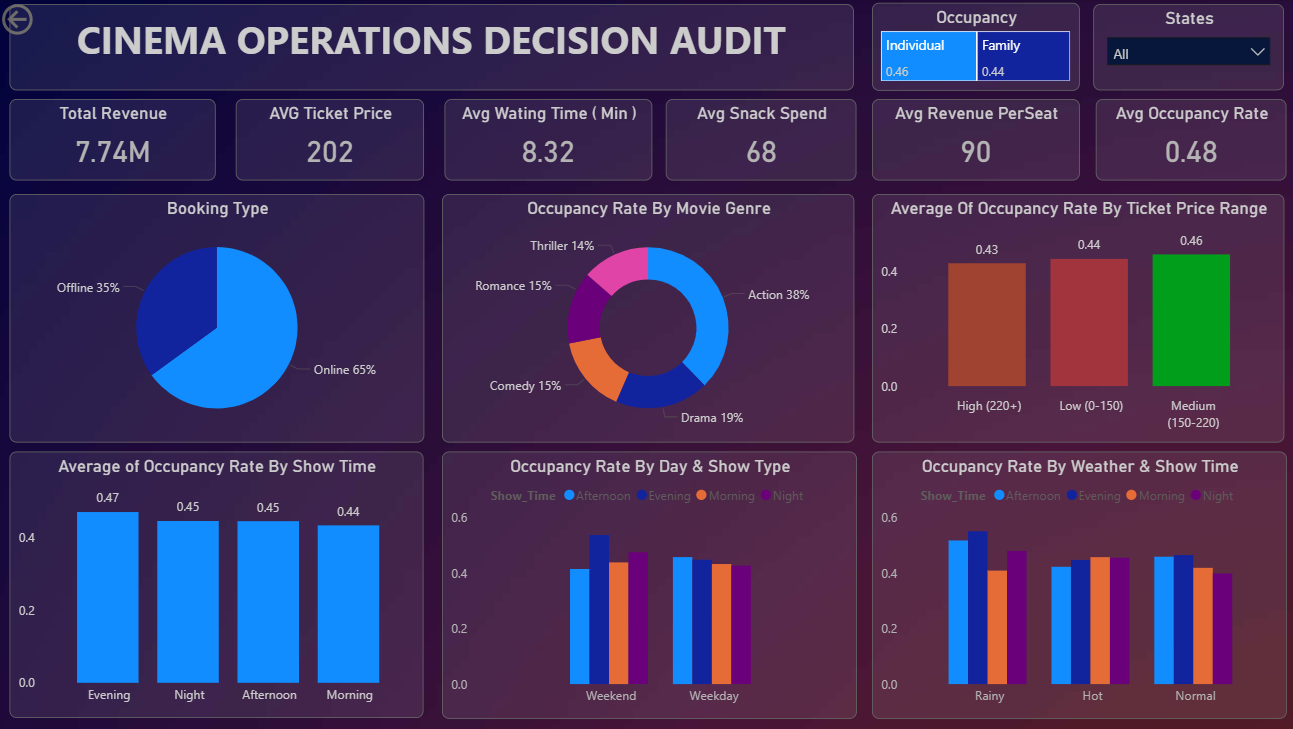

The dashboard page shown, as its layout file describes it:
{"tool":"powerbi","page":{"name":"Page 1","canvas":[1280,720],"ordinal":0},"visuals":[{"type":"lineClusteredColumnComboChart","title":"Occupancy Rate By Day & Show Type","fields":{"Category":["Cinema operations decision audit.Day_Type"],"Y":["Avg(Cinema operations decision audit.Occupancy_Rate)"],"Series":["Cinema operations decision audit.Show_Time"]},"box":[436.2,443.8,407.5,262.5],"z":0},{"type":"columnChart","title":"Average Of Occupancy Rate By Ticket Price Range","fields":{"Category":["Cinema operations decision audit.Ticket_Price_Range"],"Y":["Avg(Cinema operations decision audit.Occupancy_Rate)"]},"box":[858.8,191.2,405,243.8],"z":1000},{"type":"slicer","title":"States","fields":{"Values":["Cinema operations decision audit.State"]},"box":[1076.2,5,187.5,85],"z":2000},{"type":"card","title":"Total Revenue","fields":{"Values":["Sum(Cinema operations decision audit.Total_Revenue)"]},"box":[12.5,98.8,202.5,80],"z":3000},{"type":"card","title":"AVG Ticket Price","fields":{"Values":["Avg(Cinema operations decision audit.Ticket_Price_INR)"]},"box":[233.8,98.8,185,80],"z":4000},{"type":"card","title":"Avg Wating Time ( Min )","fields":{"Values":["Avg(Cinema operations decision audit.Queue_Time_Minutes)"]},"box":[438.8,98.8,203.8,80],"z":5000},{"type":"card","title":"Avg Snack Spend","fields":{"Values":["Cinema operations decision audit.Avg Snack Revenue per Booking"]},"box":[656.2,98.8,187.5,80],"z":6000},{"type":"card","title":"Avg Revenue PerSeat","fields":{"Values":["Avg(Cinema operations decision audit.Revenue_per_Seat)"]},"box":[858.8,98.8,203.8,80],"z":7000},{"type":"actionButton","box":[0,0,100,40],"z":8000},{"type":"textbox","box":[12.5,5,828.8,85],"z":9000},{"type":"card","title":"Avg Occupancy Rate","fields":{"Values":["Cinema operations decision audit.Occupancy Rate %"]},"box":[1078.8,98.8,187.5,80],"z":10000},{"type":"columnChart","title":"Average of Occupancy Rate By Show Time","fields":{"Category":["Cinema operations decision audit.Show_Time"],"Y":["Avg(Cinema operations decision audit.Occupancy_Rate)"]},"box":[12.5,443.8,406.2,261.2],"z":11000},{"type":"lineClusteredColumnComboChart","title":" Occupancy Rate By Weather & Show Time","fields":{"Category":["Cinema operations decision audit.Weather"],"Y":["Avg(Cinema operations decision audit.Occupancy_Rate)"],"Series":["Cinema operations decision audit.Show_Time"]},"box":[858.8,443.8,407.5,262.5],"z":12000},{"type":"pieChart","title":" Booking Type","fields":{"Category":["Cinema operations decision audit.Booking Type"],"Y":["CountNonNull(Cinema operations decision audit.Booking Type)"]},"box":[12.5,191.2,407.5,243.8],"z":13000},{"type":"donutChart","title":"Occupancy Rate By Movie Genre","fields":{"Category":["Cinema operations decision audit.Movie_Genre"],"Y":["Sum(Cinema operations decision audit.Occupancy_Rate)"]},"box":[436.2,191.2,405,243.8],"z":14000},{"type":"treemap","title":"Occupancy","fields":{"Group":["Cinema operations decision audit.Customer_Type"],"Values":["Avg(Cinema operations decision audit.Occupancy_Rate)"]},"box":[858.8,3.8,203.8,86.2],"z":15000}]}

Visuals, with their boxes in screenshot pixels (x1, y1, x2, y2), scaled from the page's 1280x720 canvas onto the 1293x729 screenshot:
"Occupancy Rate By Day & Show Type" lineClusteredColumnComboChart: Rect(441, 449, 852, 715)
"Average Of Occupancy Rate By Ticket Price Range" columnChart: Rect(868, 194, 1277, 440)
"States" slicer: Rect(1087, 5, 1277, 91)
"Total Revenue" card: Rect(13, 100, 217, 181)
"AVG Ticket Price" card: Rect(236, 100, 423, 181)
"Avg Wating Time ( Min )" card: Rect(443, 100, 649, 181)
"Avg Snack Spend" card: Rect(663, 100, 852, 181)
"Avg Revenue PerSeat" card: Rect(868, 100, 1073, 181)
actionButton: Rect(0, 0, 101, 40)
textbox: Rect(13, 5, 850, 91)
"Avg Occupancy Rate" card: Rect(1090, 100, 1279, 181)
"Average of Occupancy Rate By Show Time" columnChart: Rect(13, 449, 423, 714)
" Occupancy Rate By Weather & Show Time" lineClusteredColumnComboChart: Rect(868, 449, 1279, 715)
" Booking Type" pieChart: Rect(13, 194, 424, 440)
"Occupancy Rate By Movie Genre" donutChart: Rect(441, 194, 850, 440)
"Occupancy" treemap: Rect(868, 4, 1073, 91)
